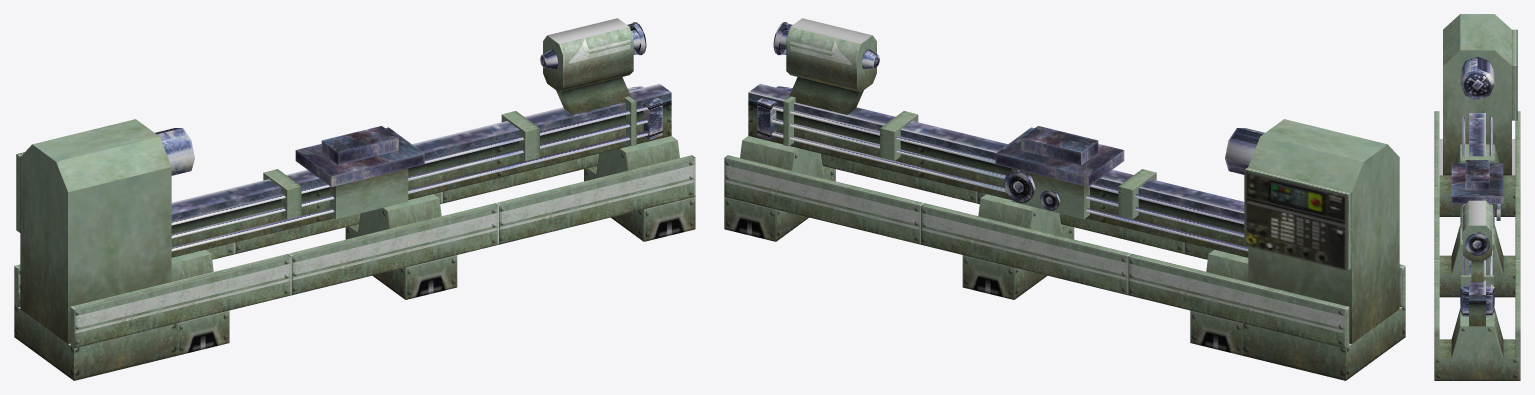
File: metal_lathe01.fbx
3 views of the same model, side by side, from view 1: azimuth 30°, elevation 25°; view 2: azimuth 150°, elevation 25°; view 3: azimuth 270°, elevation 25° (orthographic). The views are drawn at different scales.
Visible parts, largest first — view 1: mesh_1, mesh_0; view 2: mesh_1, mesh_2, mesh_0; view 3: mesh_1, mesh_0, mesh_2.
Boxes of the visible parts, x1,y1,x2,y2 form: mesh_1: [14, 23, 695, 380]; mesh_0: [18, 18, 629, 345]; mesh_1: [724, 23, 1405, 380]; mesh_2: [773, 22, 1058, 210]; mesh_0: [790, 18, 1401, 345]; mesh_1: [1434, 14, 1520, 380]; mesh_0: [1439, 139, 1515, 225]; mesh_2: [1465, 233, 1489, 255].
Size of the model in its own units: 600 by 190 by 100.
